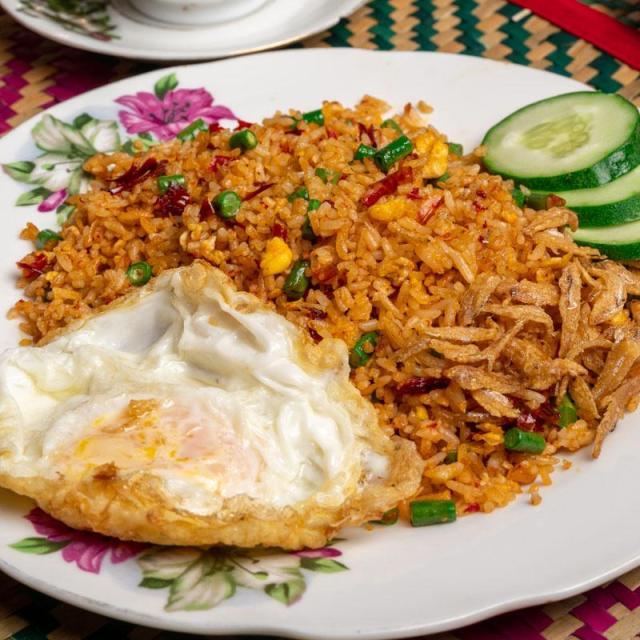Nasi Goreng: (16, 142, 634, 543)
